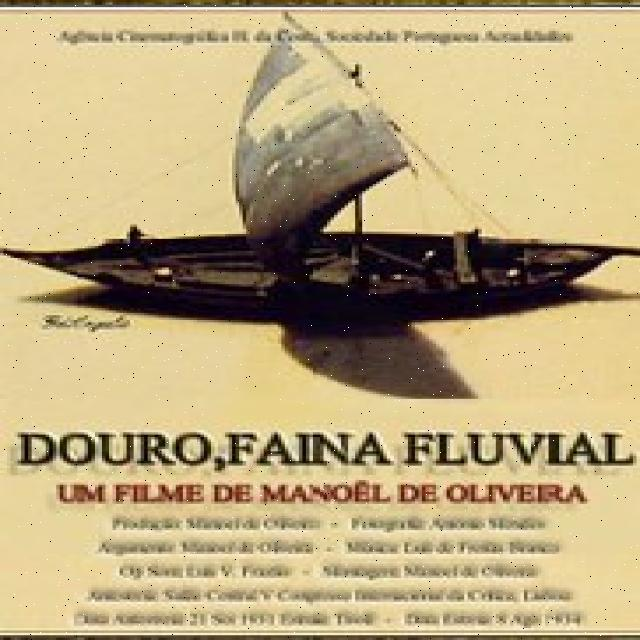movie-judul: (2, 402, 636, 634)
picture: (1, 11, 635, 403)
